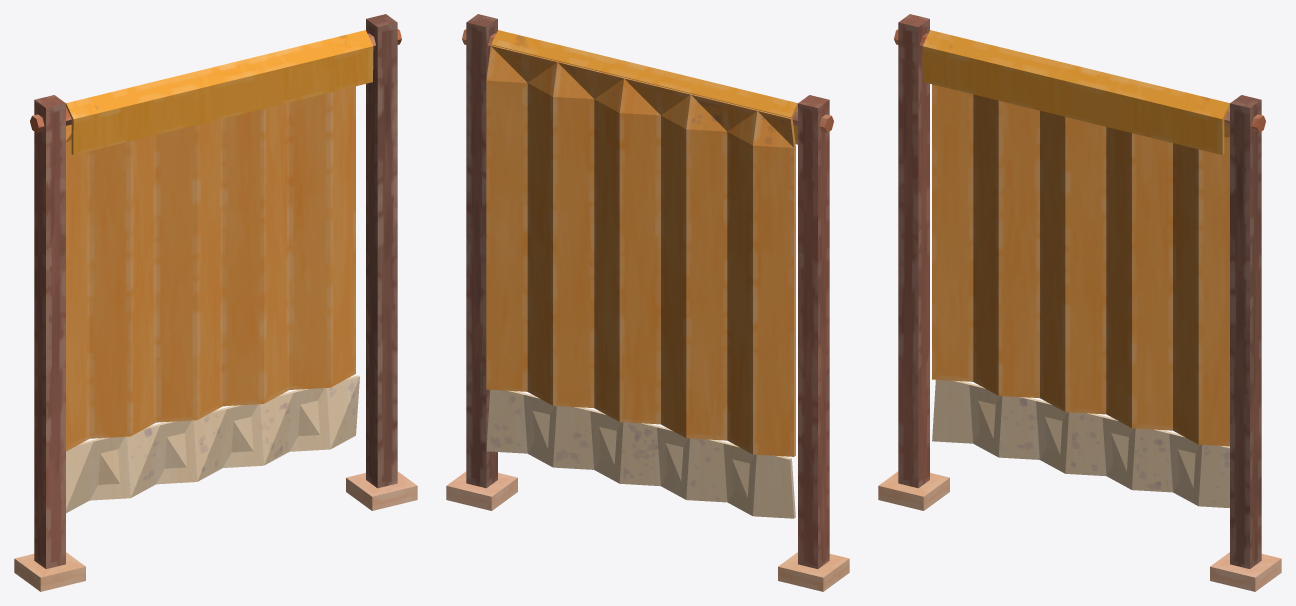
The model's file is rack_saffron_low.fbx.
The picture shows the model from 3 angles, left to right: view 1: azimuth 30°, elevation 25°; view 2: azimuth 150°, elevation 25°; view 3: azimuth 330°, elevation 25°; orthographic projection.
Parts seen in each view (by area): view 1: rack_saffron; view 2: rack_saffron; view 3: rack_saffron.
Boxes of the visible parts, box(x1,y1,x2,y2) form: rack_saffron: box(14, 14, 417, 591); rack_saffron: box(446, 14, 849, 591); rack_saffron: box(878, 14, 1281, 591).
Bounding box in the file's own units: 8.3 × 10 × 1.
1 material, 1 textured.
